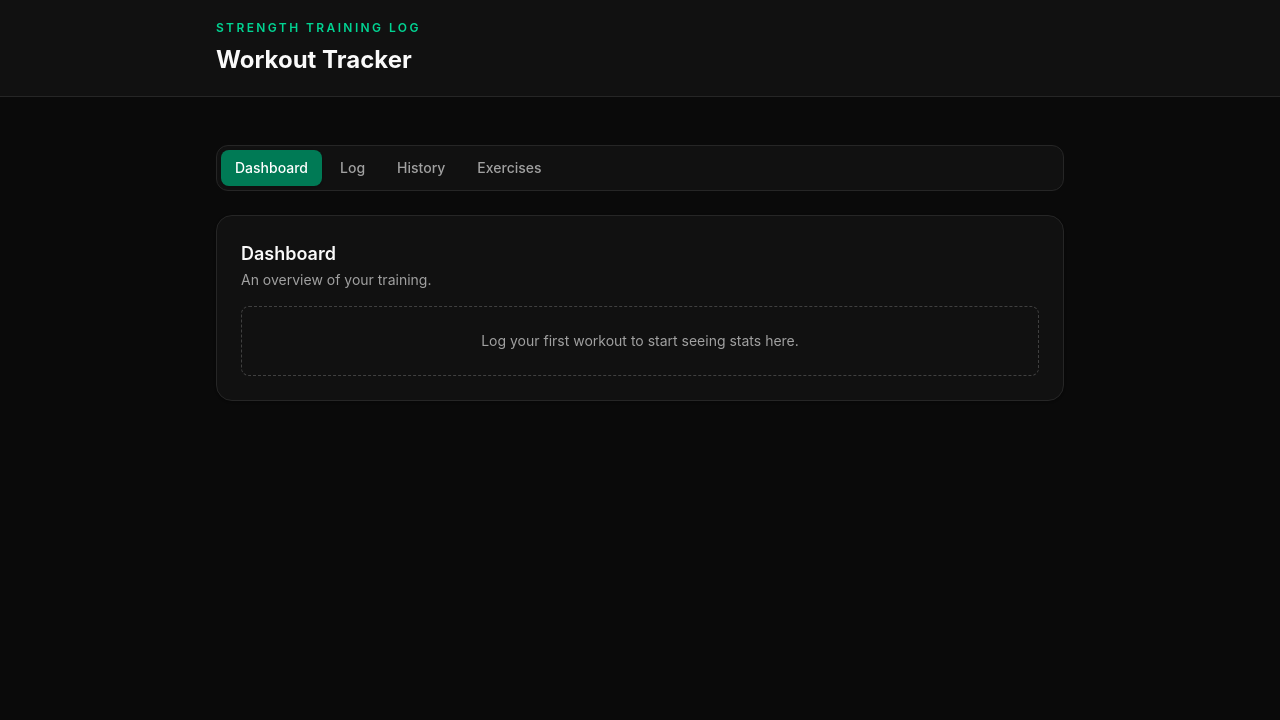
Scenario: reports a template with a missing exercise without crashing
The image size is (1280, 720).
Click the tab "Log" at (352, 168), box [326, 150, 379, 186]
(page scrolled)
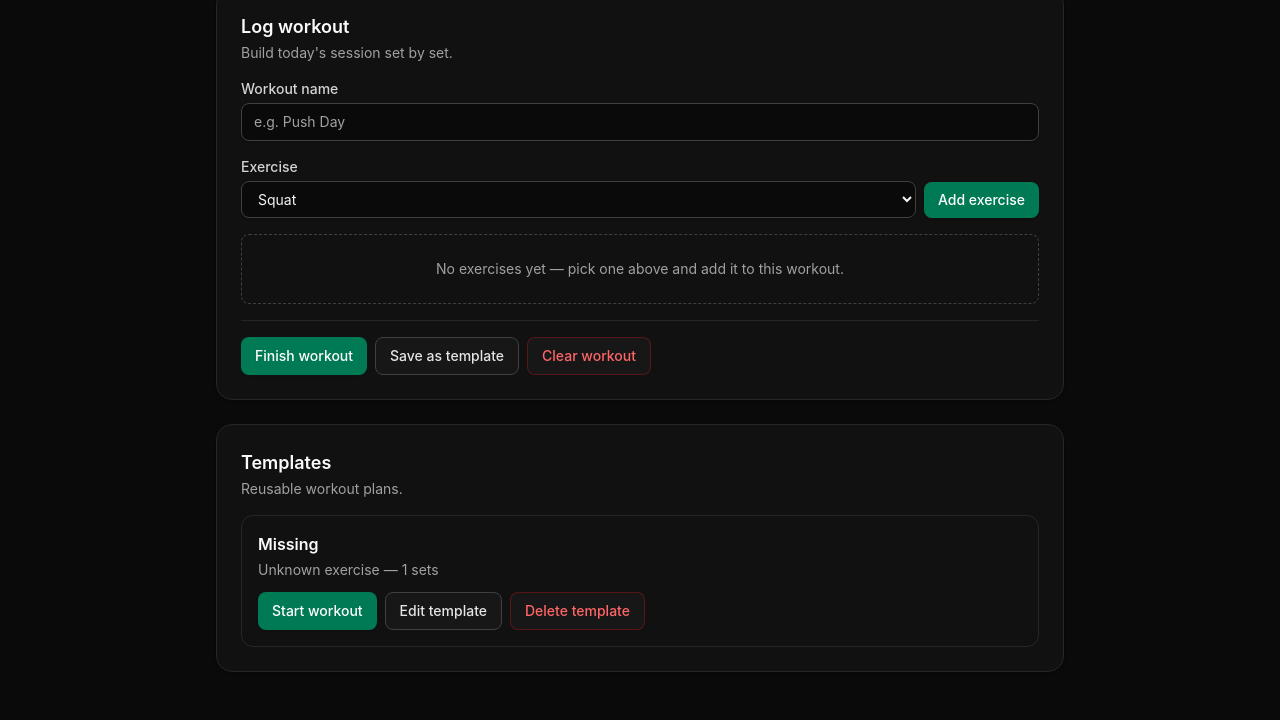
Result: the button "Start workout" is shown
Click the button "Start workout" at (317, 611), box [258, 592, 377, 630]
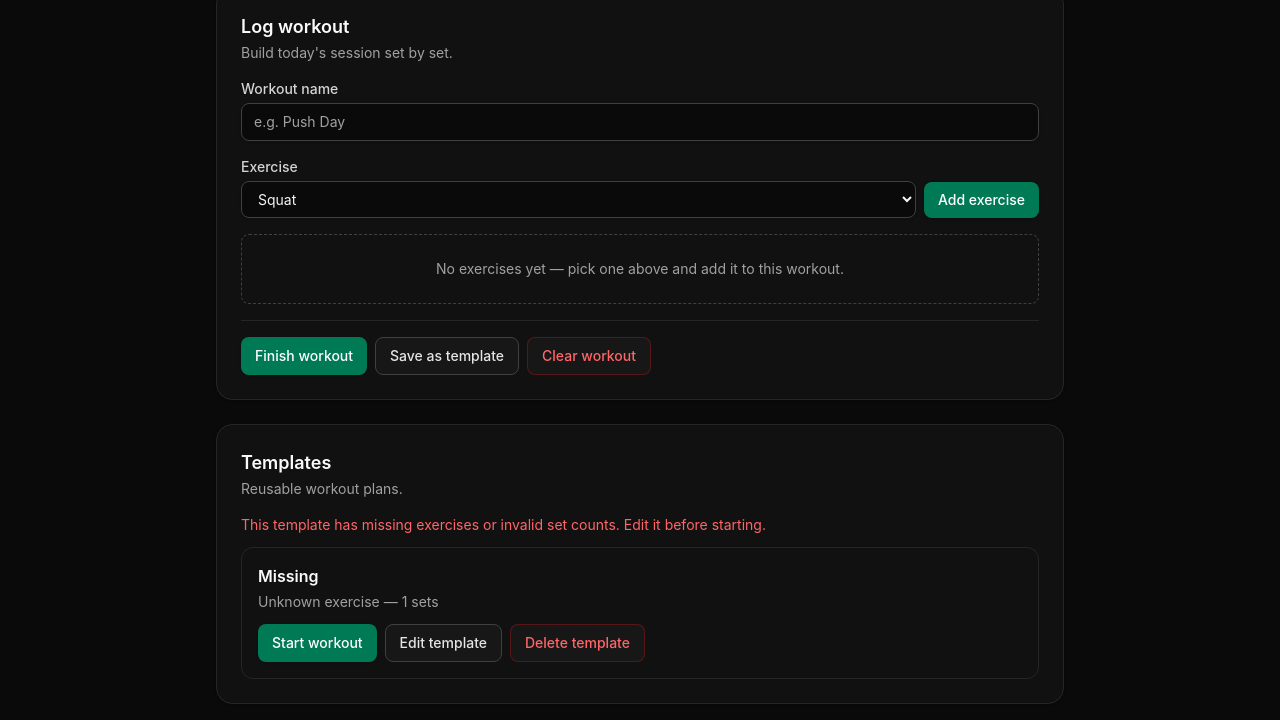
Result: the text "missing exercises" is shown at [241, 516, 766, 533]
